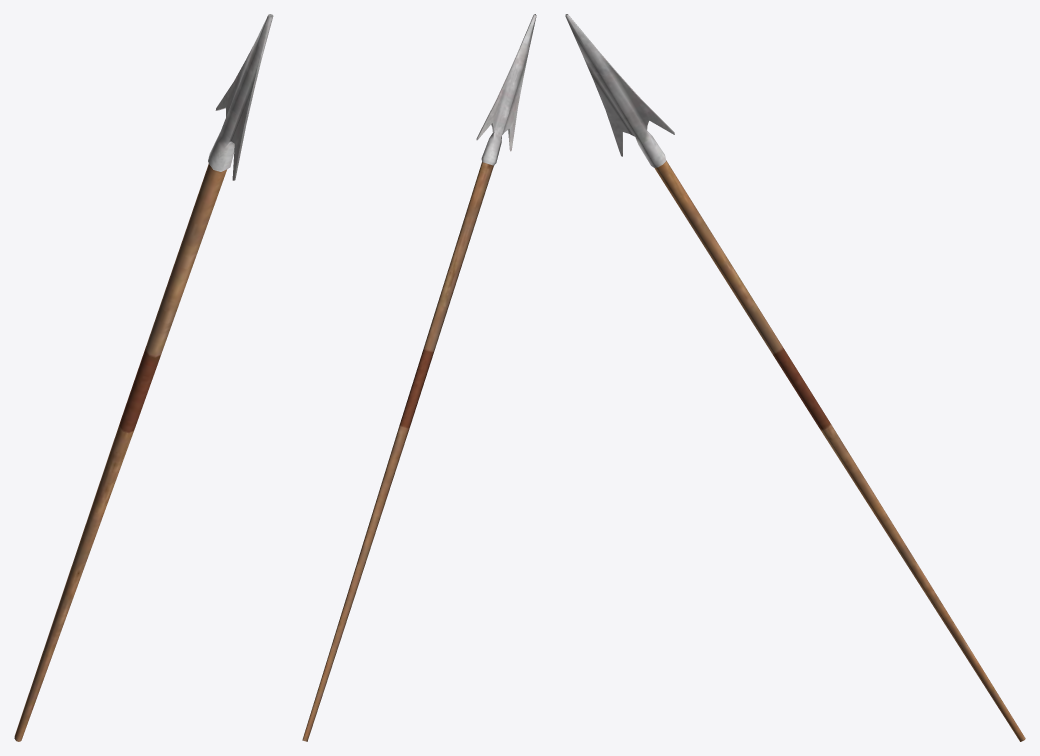
Rendered from rider-javelin-slice-base.glb.
The picture shows the model from 3 angles, left to right: view 1: azimuth 30°, elevation 25°; view 2: azimuth 150°, elevation 25°; view 3: azimuth 270°, elevation 25°; orthographic projection. The views are drawn at different scales.
Size of the model in its own units: 0.1131 by 1.57 by 0.9281.
1 material, 1 textured.
